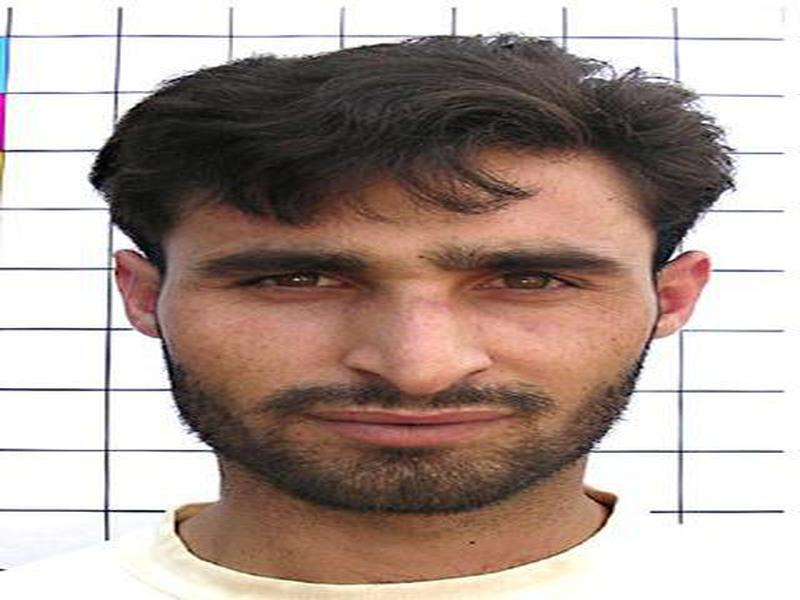without_mask: (174, 155, 651, 518)
